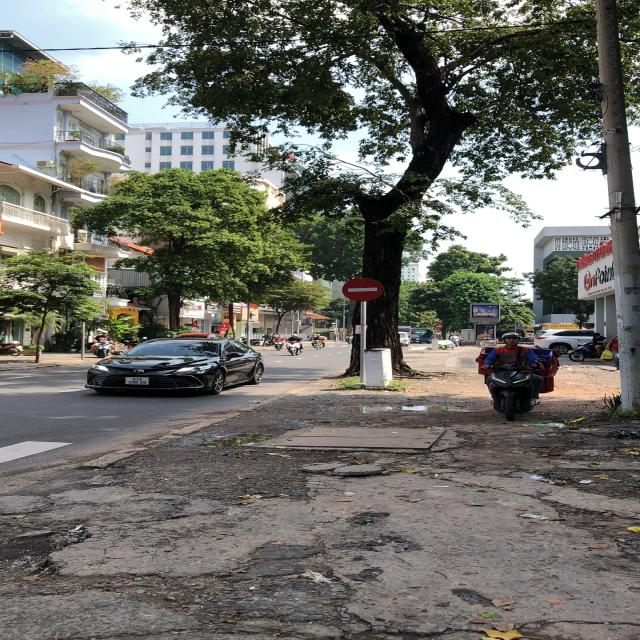Bien bao cam di nguoc chieu: (337, 274, 402, 305)
